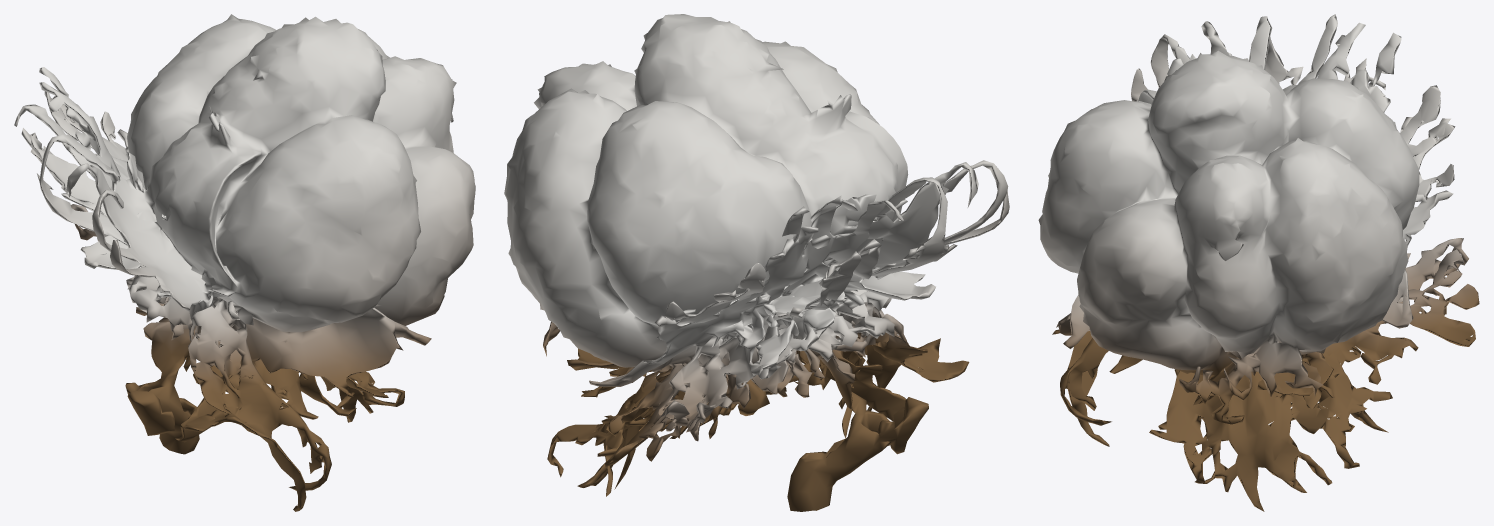
Rendered from cotton-boll-hi.glb.
3 views of the same model, side by side, from view 1: azimuth 30°, elevation 25°; view 2: azimuth 150°, elevation 25°; view 3: azimuth 270°, elevation 25° (orthographic). The views are drawn at different scales.
Size of the model in its own units: 1.92 by 2 by 1.88.
